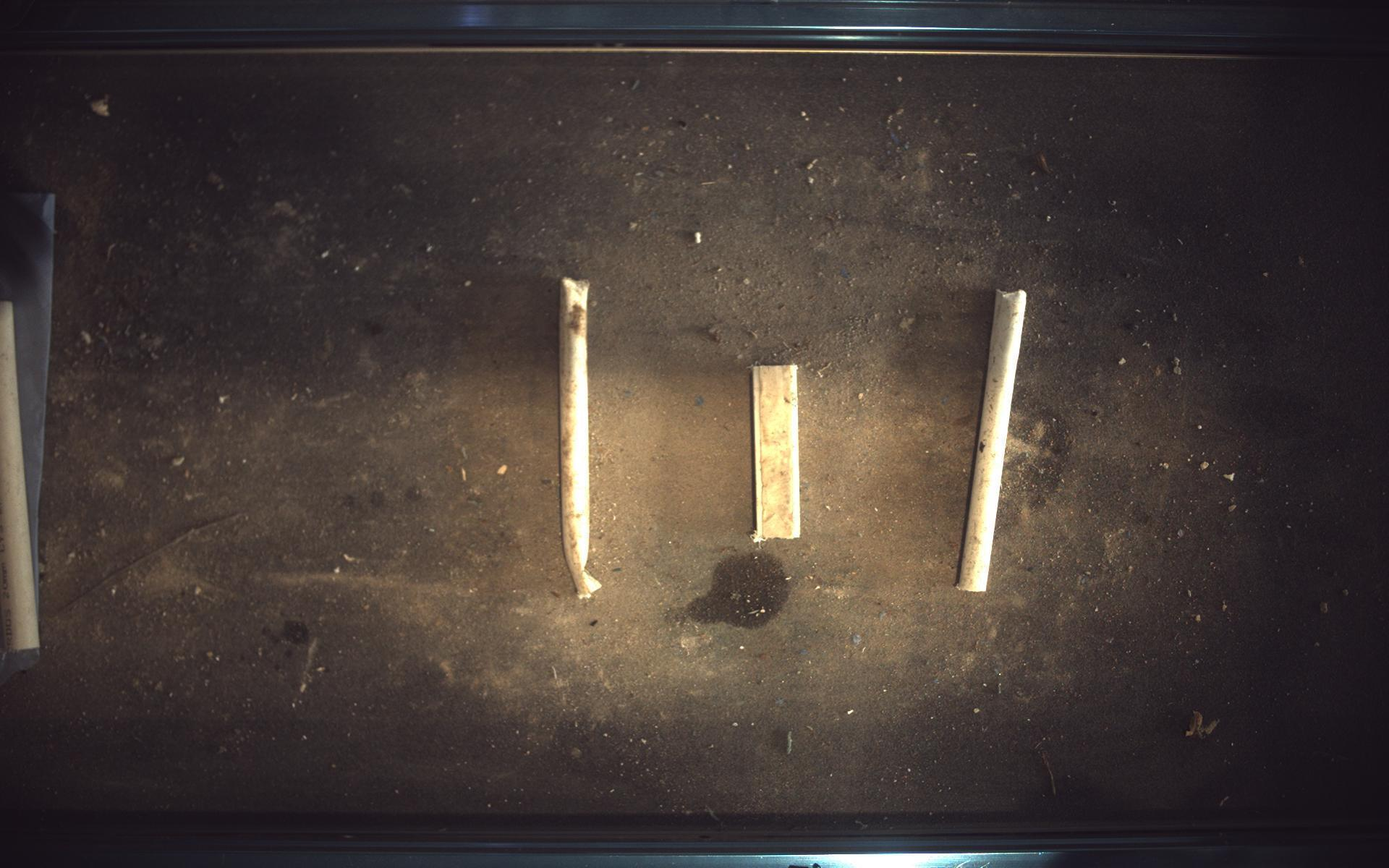pipes: (959, 290, 1029, 592), (560, 277, 601, 599)
plastic: (753, 365, 802, 542)
